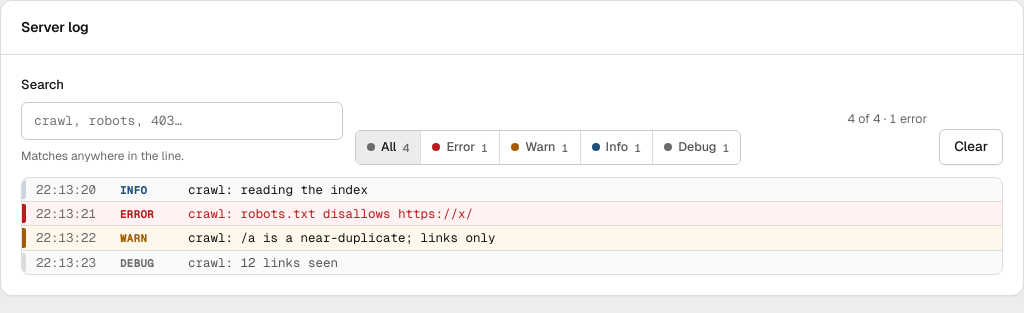
Scenario: LogsPage › says "no lines match" when a filter hides everything
In the field labelled "Search": (182, 120) left=21, top=102, right=343, bottom=140, type "zzz"
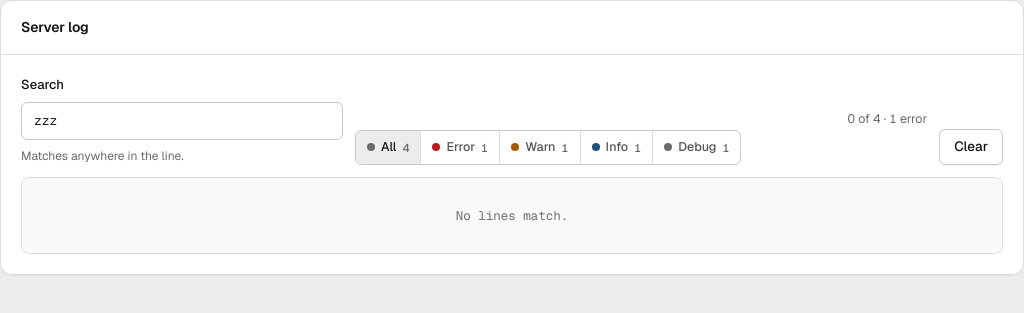
Now the text "No lines match." is shown, box left=456, top=206, right=568, bottom=224
